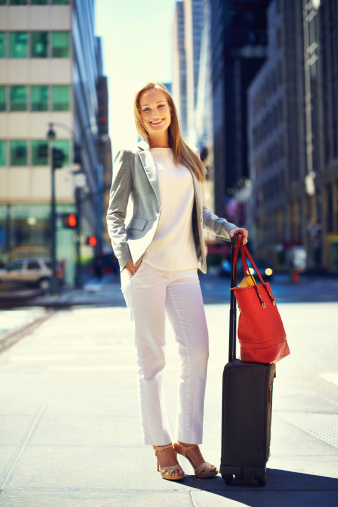em pe: (103, 63, 245, 483)
